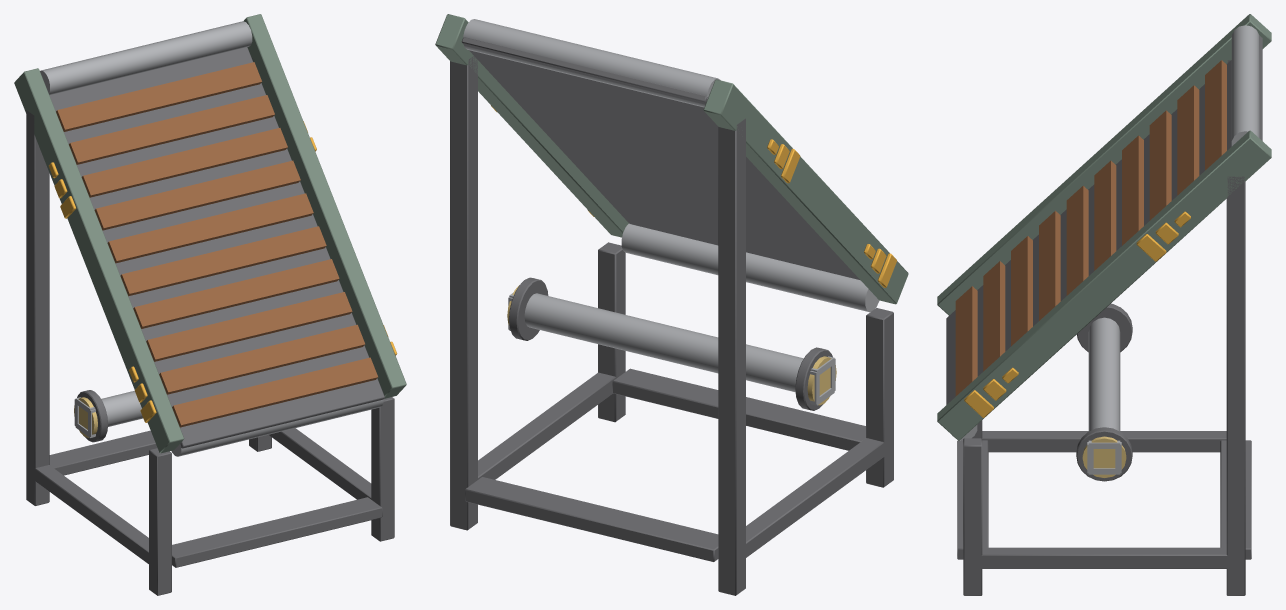
Rendered from feConveyorDown.fbx.
The picture shows the model from 3 angles, left to right: view 1: azimuth 30°, elevation 25°; view 2: azimuth 150°, elevation 25°; view 3: azimuth 270°, elevation 25°; orthographic projection. The views are drawn at different scales.
Parts seen in each view (by area): view 1: feConveyorDown_Base, FeBeltSlats.002, FeSpin_BeltRollerBack.002, FeSpin_BeltDrive.002, FeSpin_BeltRollerFront.002; view 2: feConveyorDown_Base, FeSpin_BeltDrive.002, FeSpin_BeltRollerFront.002, FeSpin_BeltRollerBack.002; view 3: feConveyorDown_Base, FeBeltSlats.002, FeSpin_BeltDrive.002, FeSpin_BeltRollerBack.002.
Boxes of the visible parts, x1,y1,x2,y2 form: feConveyorDown_Base: (14,14,406,595); FeBeltSlats.002: (56,62,377,427); FeSpin_BeltRollerBack.002: (40,21,252,95); FeSpin_BeltDrive.002: (74,391,143,437); FeSpin_BeltRollerFront.002: (171,399,383,456); feConveyorDown_Base: (435,14,908,595); FeSpin_BeltDrive.002: (507,285,836,405); FeSpin_BeltRollerFront.002: (621,223,879,312); FeSpin_BeltRollerBack.002: (463,19,720,107); feConveyorDown_Base: (937,14,1271,595); FeBeltSlats.002: (955,60,1226,396); FeSpin_BeltDrive.002: (1082,317,1126,477); FeSpin_BeltRollerBack.002: (1231,25,1259,146).
Bounding box in the file's own units: 1.01 × 1.61 × 1.07.
